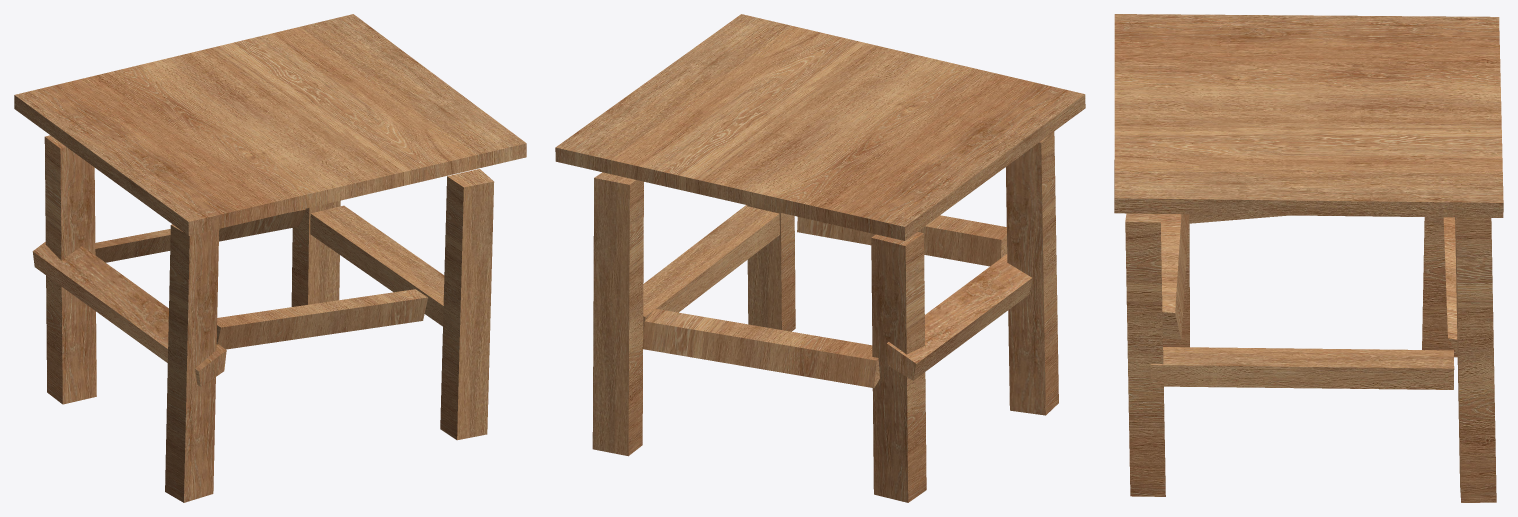
The model's file is 25940_ours.glb.
3 renders of one model, left to right at view 1: azimuth 30°, elevation 25°; view 2: azimuth 150°, elevation 25°; view 3: azimuth 270°, elevation 25°, orthographic. The views are drawn at different scales.
Visible parts, largest first — view 1: ParentEmpty; view 2: ParentEmpty; view 3: ParentEmpty.
Part boxes in pixels (box(x1,y1,x2,y2)): ParentEmpty: box(14, 14, 526, 502); ParentEmpty: box(555, 14, 1085, 502); ParentEmpty: box(1114, 14, 1503, 502).
Bounding box in the file's own units: 1 × 0.8275 × 0.8997.
Materials: 1 (1 with a texture image).
